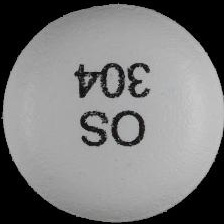65580-304: (0, 0, 224, 224)
